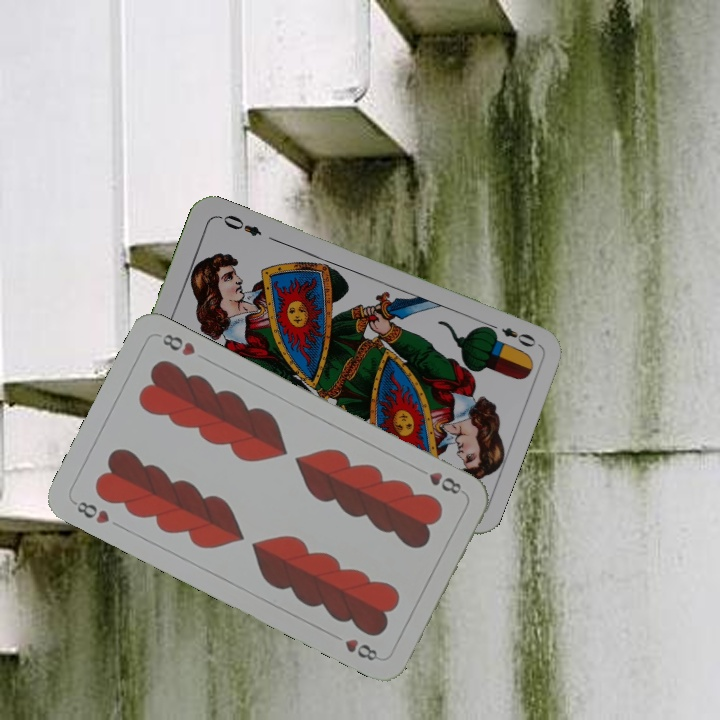EO: (482, 319, 539, 350)
H8: (69, 497, 112, 527), (425, 467, 464, 497)
